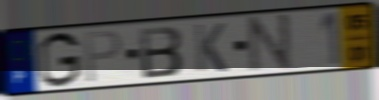1: (317, 10, 342, 69)
B: (137, 24, 184, 81)
G: (37, 30, 82, 89)
K: (192, 21, 229, 74)
N: (247, 12, 293, 75)
P: (83, 28, 124, 85)
